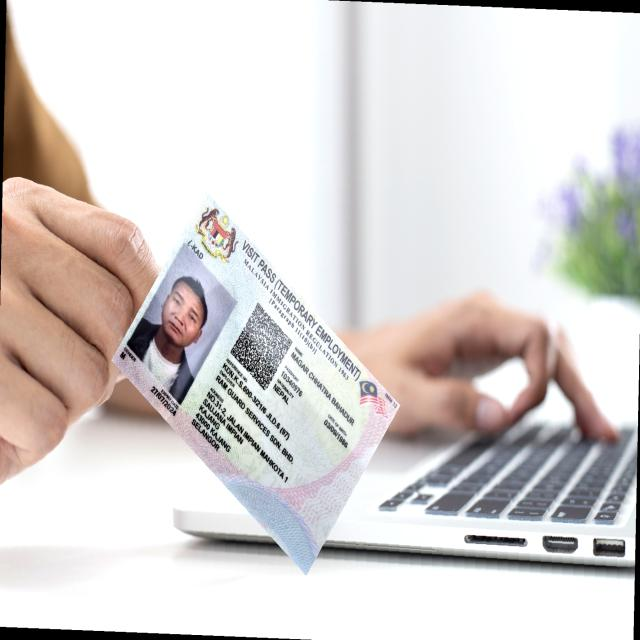ikad-temp: (110, 191, 400, 575)
